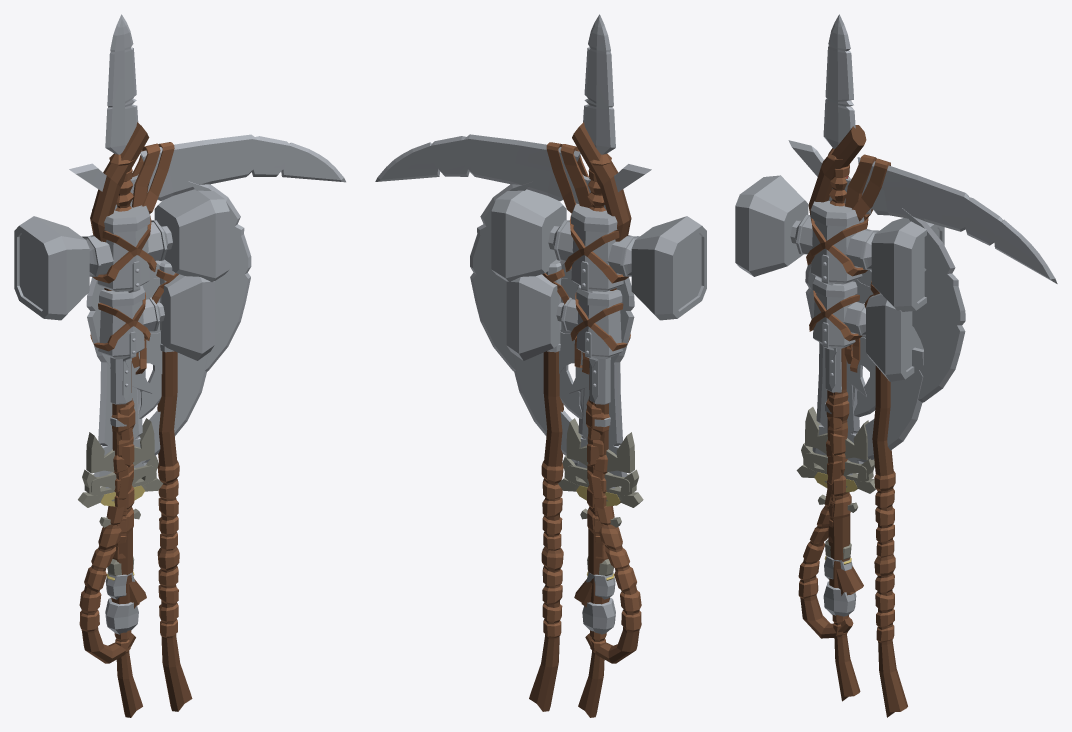
Rendered from weapons.glb.
3 renders of one model, left to right at view 1: azimuth 30°, elevation 25°; view 2: azimuth 150°, elevation 25°; view 3: azimuth 330°, elevation 25°, orthographic. The views are drawn at different scales.
Visible parts, largest first — view 1: warhammer, scythe, greataxe, mace, spear, hatchet, greatsword, claymore, axe, sabre, sword; view 2: warhammer, scythe, greataxe, mace, spear, hatchet, greatsword, claymore, axe, sabre, sword; view 3: warhammer, scythe, greataxe, mace, spear, hatchet, greatsword, claymore, axe, sword, sabre.
Boxes of the visible parts, box(x1,y1,x2,y2) form: warhammer: box(14, 189, 229, 634); scythe: box(69, 122, 345, 663); greataxe: box(86, 181, 251, 711); mace: box(90, 274, 214, 599); spear: box(105, 14, 142, 717); hatchet: box(110, 331, 208, 608); greatsword: box(91, 204, 154, 492); claymore: box(86, 418, 154, 575); axe: box(137, 260, 161, 605); sabre: box(78, 389, 163, 544); sword: box(82, 455, 158, 495); warhammer: box(491, 189, 706, 634); scythe: box(375, 122, 651, 663); greataxe: box(470, 181, 634, 711); mace: box(506, 274, 630, 599); spear: box(578, 14, 615, 717); hatchet: box(513, 331, 610, 607); greatsword: box(566, 205, 629, 492); claymore: box(566, 418, 634, 576); axe: box(559, 260, 584, 605); sabre: box(558, 389, 643, 544); sword: box(562, 455, 638, 495); warhammer: box(735, 175, 944, 616); scythe: box(788, 125, 1057, 638); greataxe: box(805, 208, 965, 717); mace: box(809, 276, 923, 579); spear: box(823, 14, 860, 701); hatchet: box(825, 337, 923, 595); greatsword: box(804, 196, 866, 478); claymore: box(805, 176, 868, 559); axe: box(846, 270, 875, 595); sword: box(801, 443, 874, 481); sabre: box(796, 386, 875, 527).
Bounding box in the file's own units: 1.07 × 2.31 × 0.2246.
